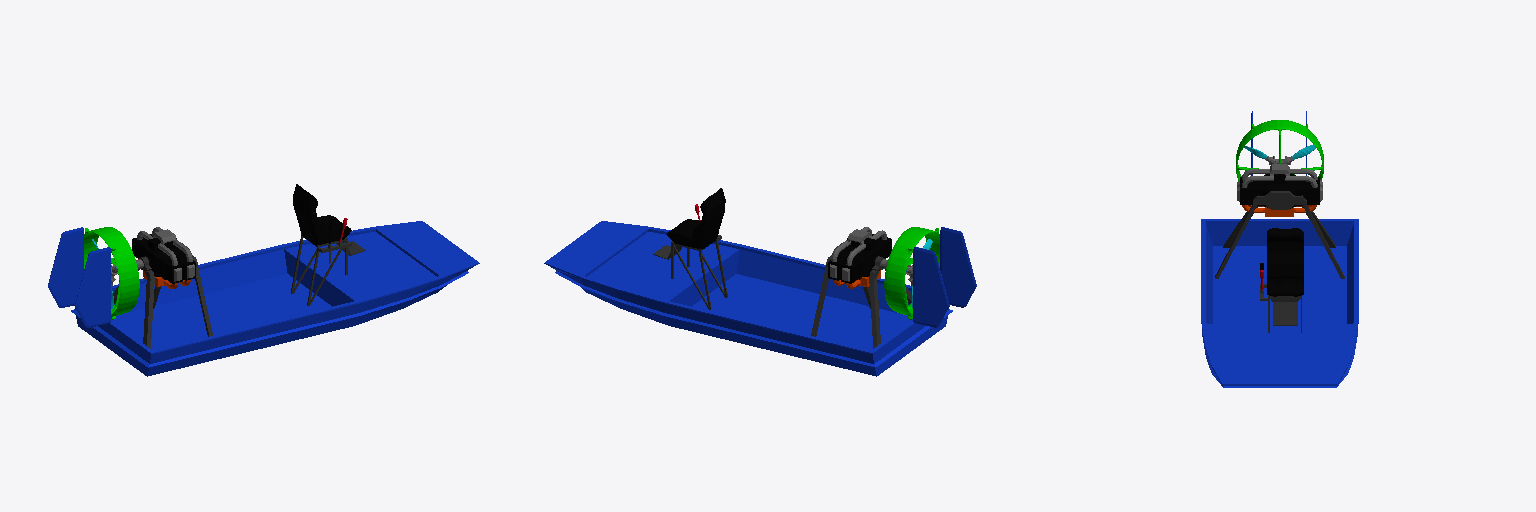
File: airboat_fixed_colors.obj
The picture shows the model from 3 angles: view 1: azimuth 30°, elevation 25°; view 2: azimuth 150°, elevation 25°; view 3: azimuth 270°, elevation 25°; orthographic projection.
Visible parts, largest first — view 1: airboat.001; view 2: airboat.001; view 3: airboat.001.
Part boxes in pixels (x1,y1,x2,y2): airboat.001: (48,184,479,376); airboat.001: (544,188,976,376); airboat.001: (1201,111,1358,387).
Bounding box in the file's own units: 16.23 × 4.8 × 5.68.